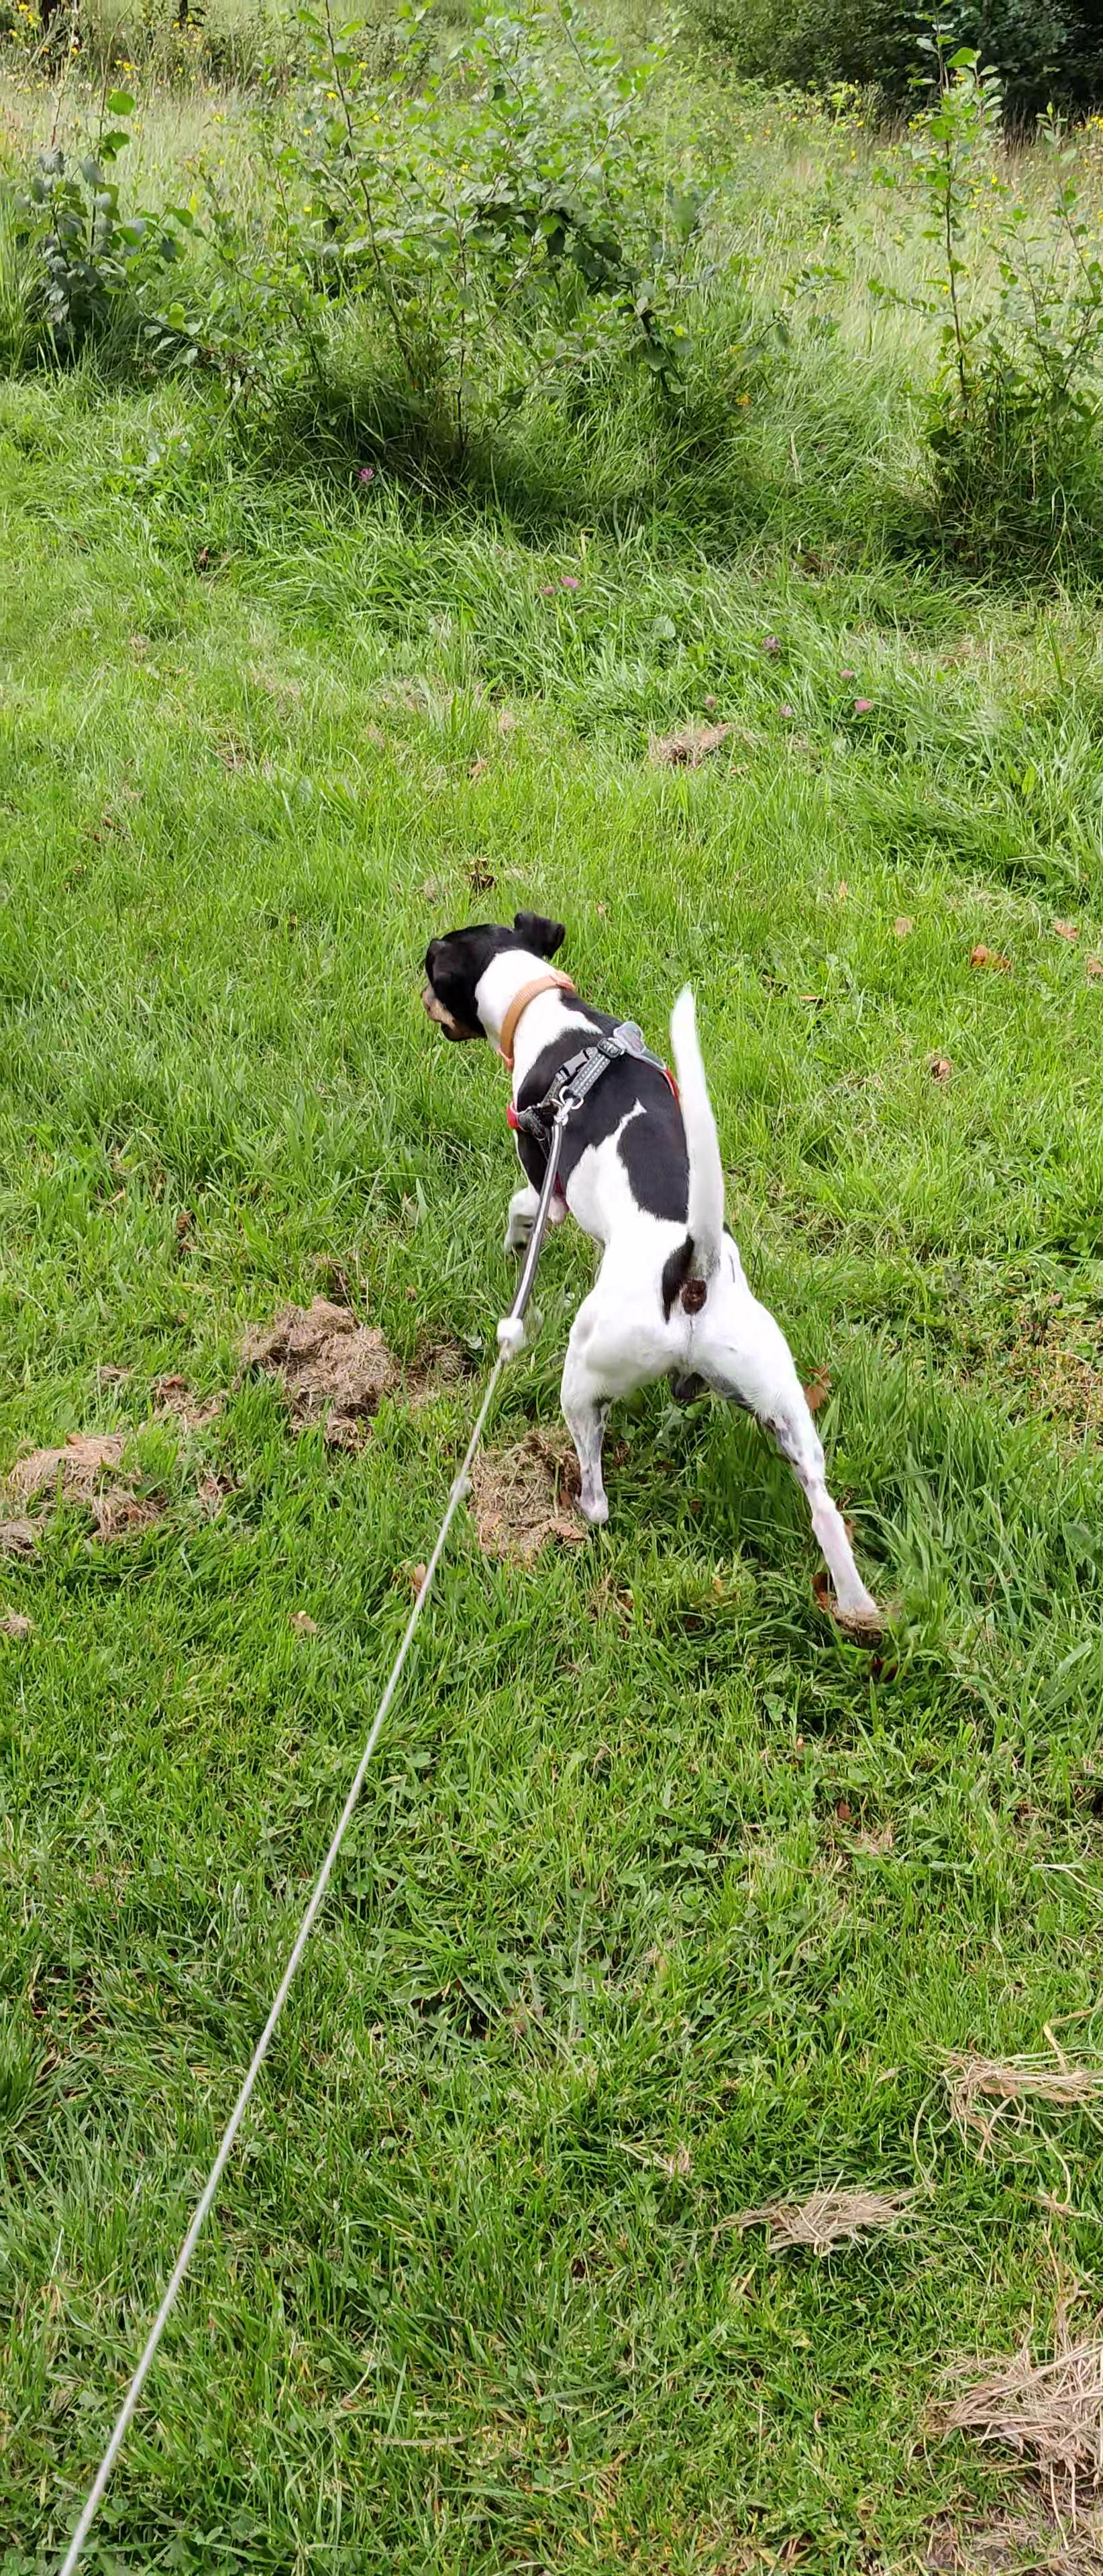Dog: (416, 899, 902, 1631)
